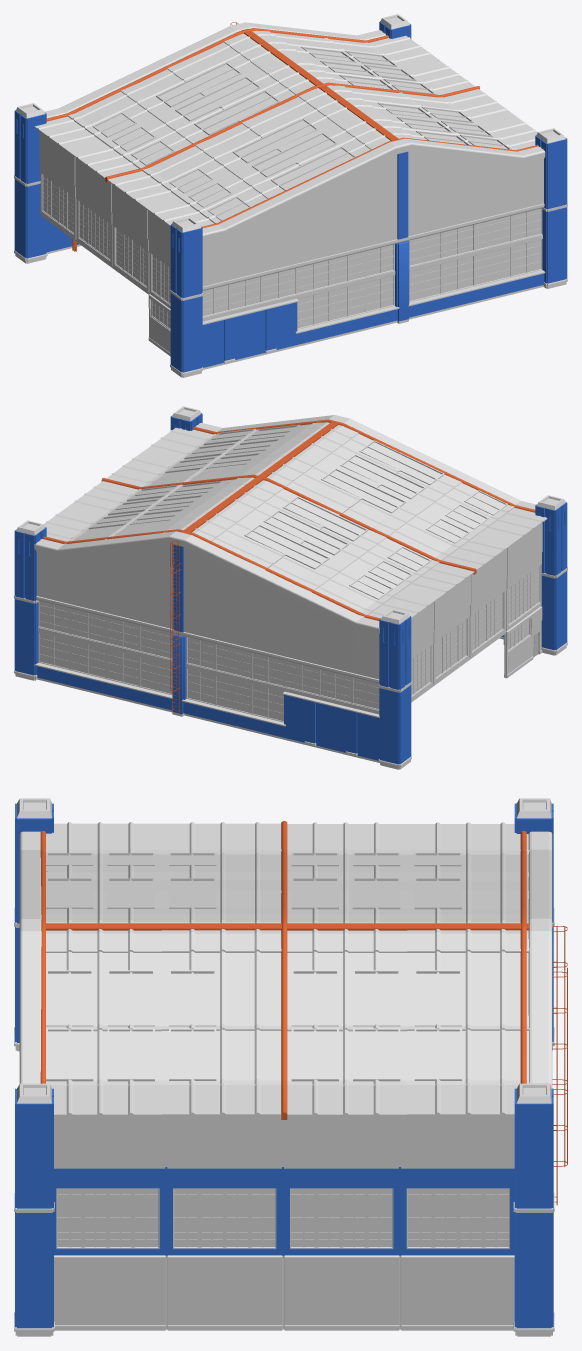
File: hangar_01.fbx
The picture shows the model from 3 angles, top to bottom: view 1: azimuth 30°, elevation 25°; view 2: azimuth 150°, elevation 25°; view 3: azimuth 270°, elevation 25°; orthographic projection. The views are drawn at different scales.
Parts seen in each view (by area): view 1: hangar_01, roof, windows, brick, frame; view 2: hangar_01, roof, windows, brick, frame; view 3: hangar_01, roof, windows, brick, frame.
Part boxes in pixels (<box>): hangar_01: <box>14,14,567,377</box>; roof: <box>34,30,537,226</box>; windows: <box>43,49,541,328</box>; brick: <box>14,21,567,372</box>; frame: <box>46,22,538,251</box>; hangar_01: <box>14,406,567,769</box>; roof: <box>44,422,547,618</box>; windows: <box>39,427,539,720</box>; brick: <box>14,413,567,764</box>; frame: <box>43,419,535,712</box>; hangar_01: <box>14,798,554,1336</box>; roof: <box>45,822,529,1116</box>; windows: <box>48,855,508,1246</box>; brick: <box>15,803,553,1328</box>; frame: <box>40,821,567,1205</box>.
Size of the model in its own units: 3676 by 1623 by 2846.
